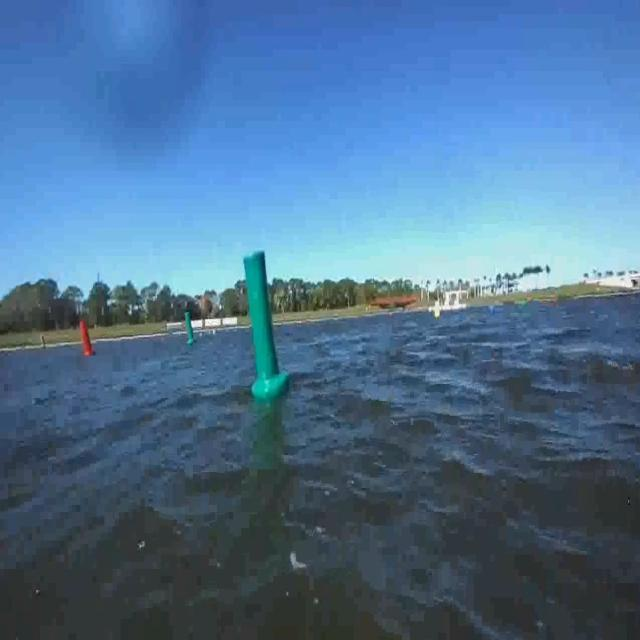blue-buoy: (489, 306, 496, 314)
green-column-buoy: (243, 249, 290, 402), (184, 312, 196, 346)
red-column-buoy: (78, 320, 94, 357)
yellow-buoy: (433, 310, 440, 321)
